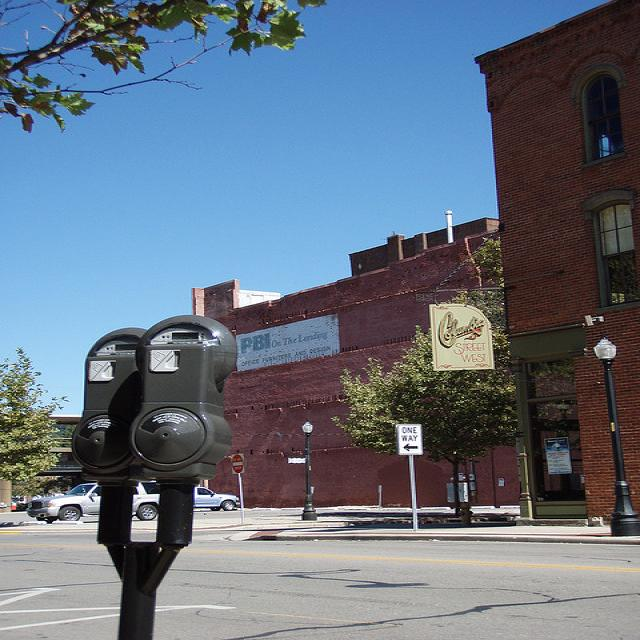Vehicle: (27, 482, 160, 524), (194, 488, 239, 512)
